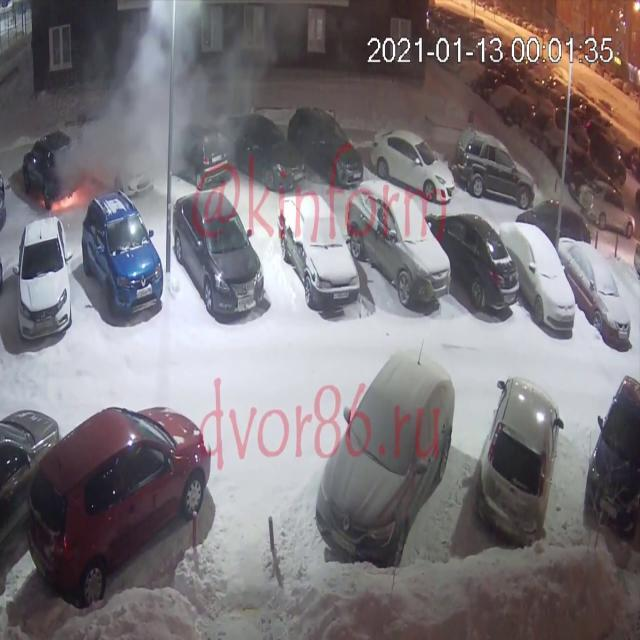Fire: (48, 188, 90, 214)
Smoke: (49, 1, 282, 198)
